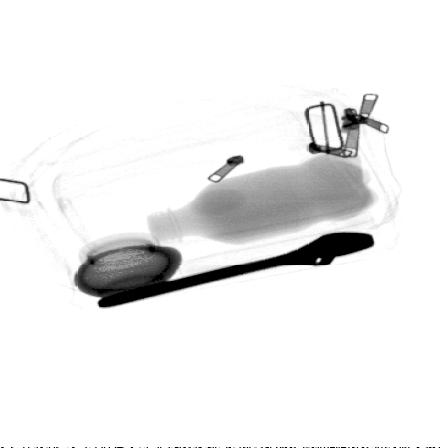Wrench: (96, 231, 377, 309)
